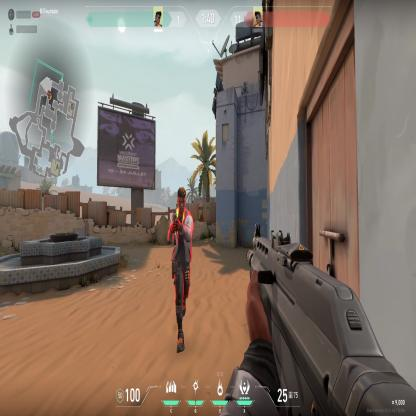enemy: (167, 184, 194, 354)
